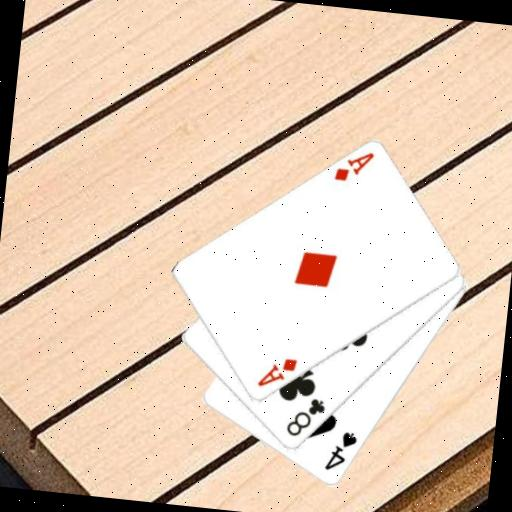4S: (321, 427, 360, 475)
8C: (283, 392, 329, 441)
AD: (254, 352, 300, 393), (331, 146, 377, 187)
